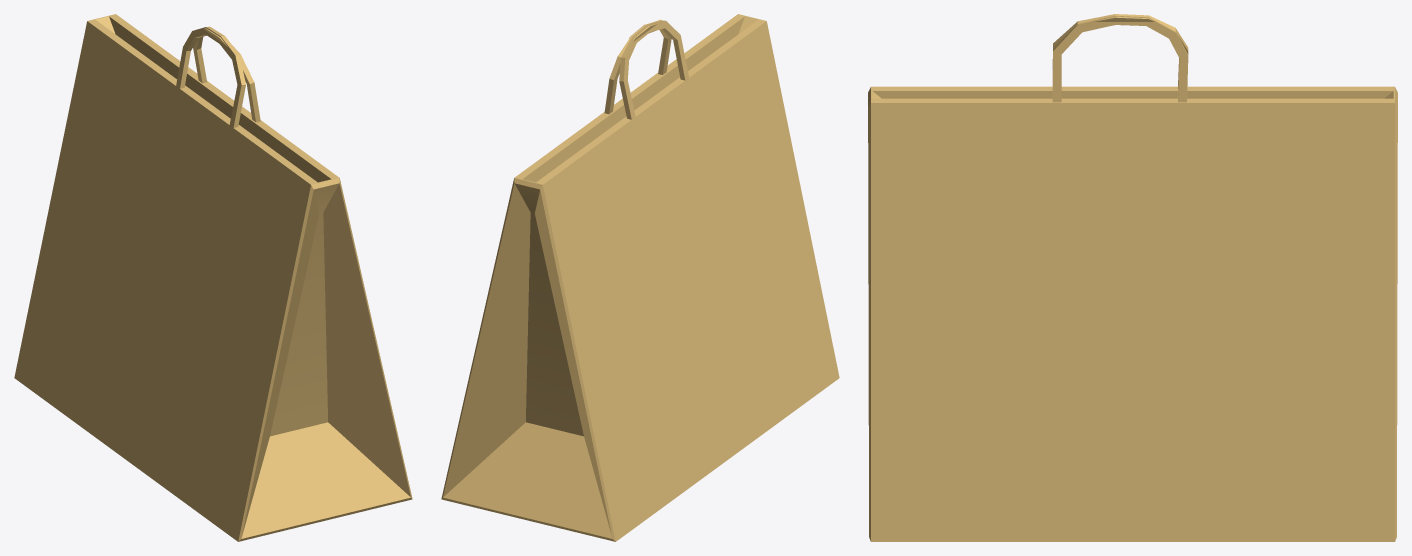
File: bag1.fbx
3 renders of one model, left to right at view 1: azimuth 30°, elevation 25°; view 2: azimuth 150°, elevation 25°; view 3: azimuth 270°, elevation 25°, orthographic. The views are drawn at different scales.
Visible parts, largest first — view 1: bag; view 2: bag; view 3: bag.
Boxes of the visible parts, left/top/right/bottom form: bag: left=14, top=14, right=412, bottom=541; bag: left=441, top=14, right=839, bottom=541; bag: left=868, top=14, right=1397, bottom=541.
Size of the model in its own units: 0.4906 by 1.1 by 1.1.
